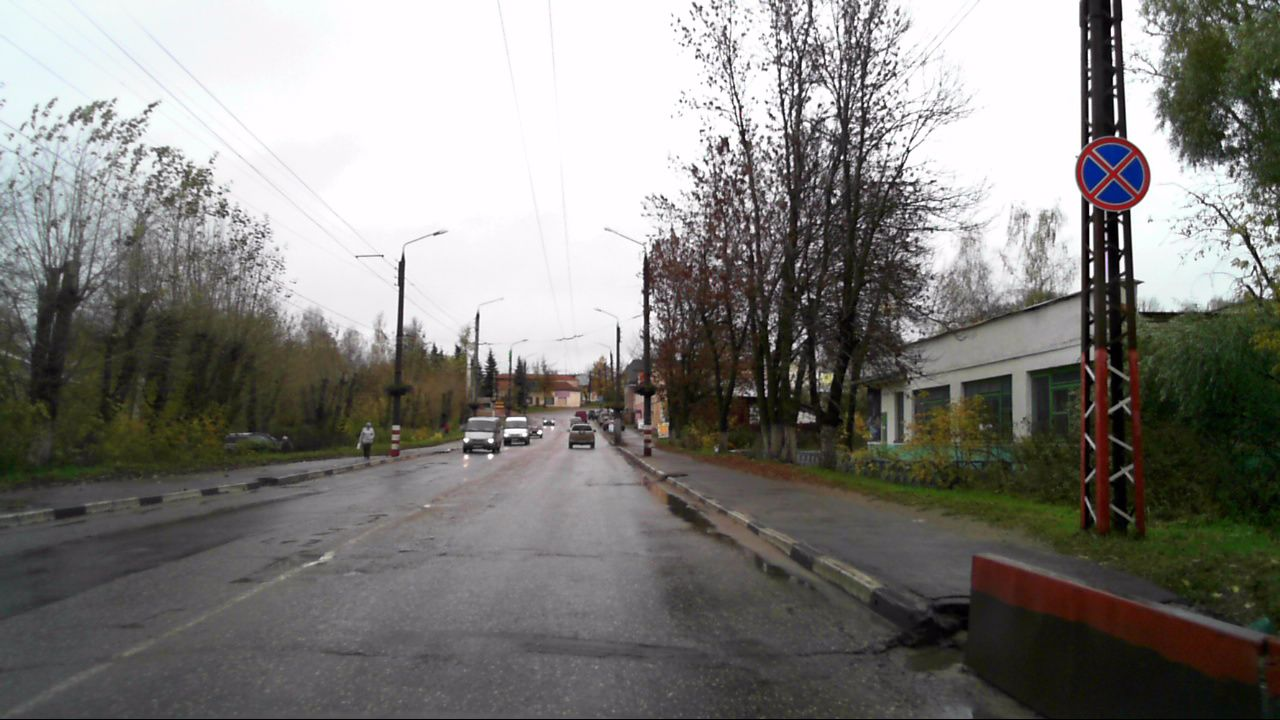No Parking: (1075, 136, 1150, 211)
